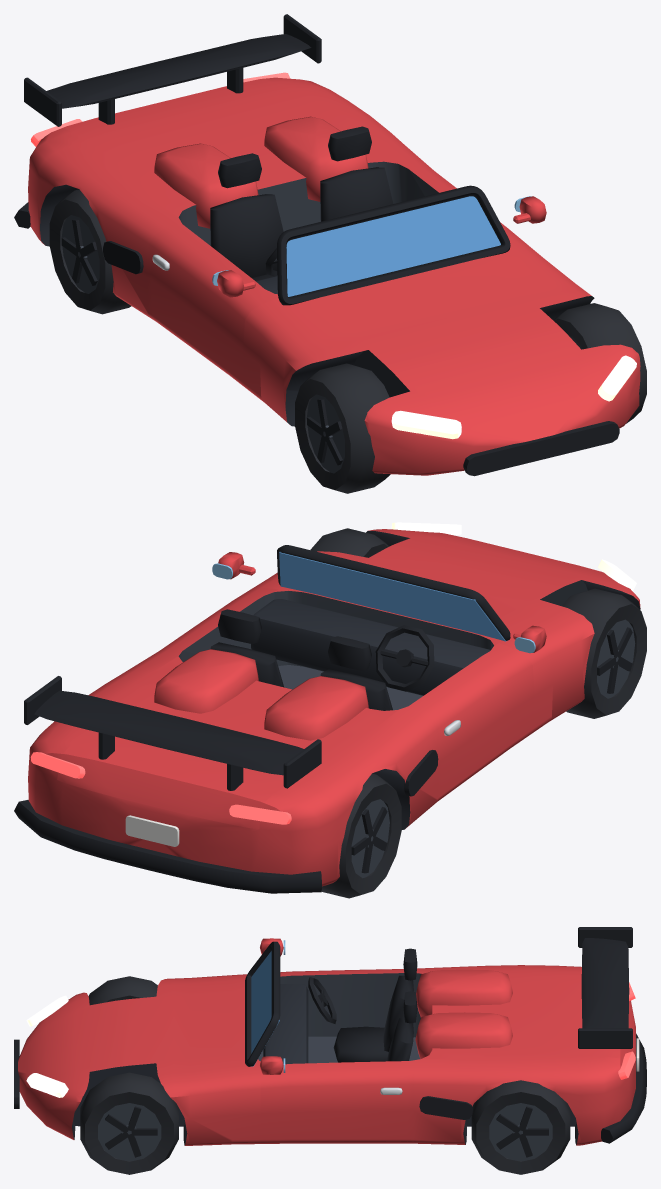
File: esportivo_conversivel_vermelho.glb
The picture shows the model from 3 angles, top to bottom: view 1: azimuth 30°, elevation 25°; view 2: azimuth 150°, elevation 25°; view 3: azimuth 270°, elevation 25°; orthographic projection. The views are drawn at different scales.
Visible parts, largest first — view 1: esportivo_conversivel_vermelho, porta_dianteira_esq, porta_malas, roda_dianteira_esq, roda_traseira_esq, roda_dianteira_dir, porta_dianteira_dir; view 2: esportivo_conversivel_vermelho, porta_malas, porta_dianteira_esq, roda_dianteira_esq, roda_traseira_esq, porta_dianteira_dir, roda_dianteira_dir; view 3: esportivo_conversivel_vermelho, porta_dianteira_dir, roda_dianteira_dir, roda_traseira_dir, porta_dianteira_esq, porta_malas, roda_dianteira_esq.
Part boxes in pixels (<box>): esportivo_conversivel_vermelho: <box>14,14,640,476</box>; porta_dianteira_esq: <box>147,221,278,382</box>; porta_malas: <box>63,78,315,159</box>; roda_dianteira_esq: <box>295,363,390,493</box>; roda_traseira_esq: <box>49,189,131,314</box>; roda_dianteira_dir: <box>553,303,646,423</box>; porta_dianteira_dir: <box>404,165,526,243</box>; esportivo_conversivel_vermelho: <box>14,522,640,893</box>; porta_malas: <box>57,730,283,828</box>; porta_dianteira_esq: <box>405,643,534,798</box>; roda_dianteira_esq: <box>561,588,646,718</box>; roda_traseira_esq: <box>321,773,401,898</box>; porta_dianteira_dir: <box>155,587,278,661</box>; roda_dianteira_dir: <box>310,528,389,557</box>; esportivo_conversivel_vermelho: <box>14,927,646,1145</box>; porta_dianteira_dir: <box>260,1060,413,1139</box>; roda_dianteira_dir: <box>80,1072,178,1174</box>; roda_traseira_dir: <box>471,1080,570,1174</box>; porta_dianteira_esq: <box>280,969,413,1038</box>; porta_malas: <box>538,976,633,1073</box>; roda_dianteira_esq: <box>88,976,157,1005</box>.
Size of the model in its own units: 2.11 by 1.14 by 4.5.
Materials: 4 (1 with a texture image).
